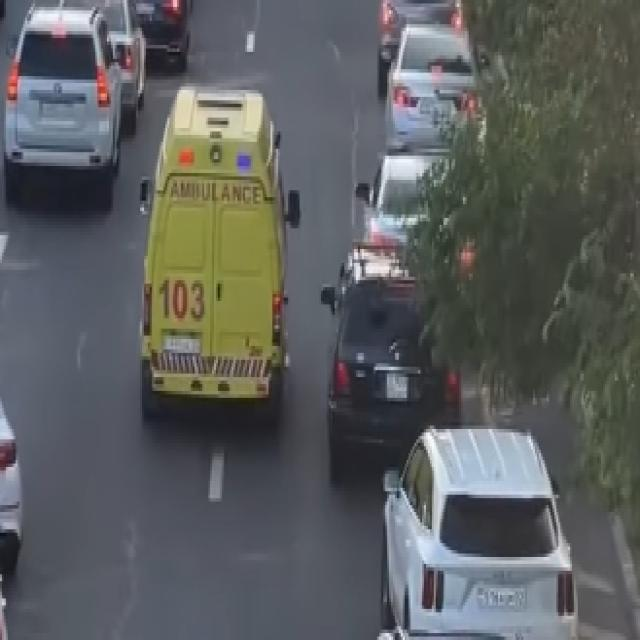intensive care unit: (143, 86, 289, 428)
non emergency car: (89, 79, 342, 400), (385, 427, 578, 638), (329, 247, 463, 485), (5, 5, 121, 209), (385, 25, 488, 164), (360, 153, 467, 254), (99, 5, 146, 133), (131, 1, 190, 70)
